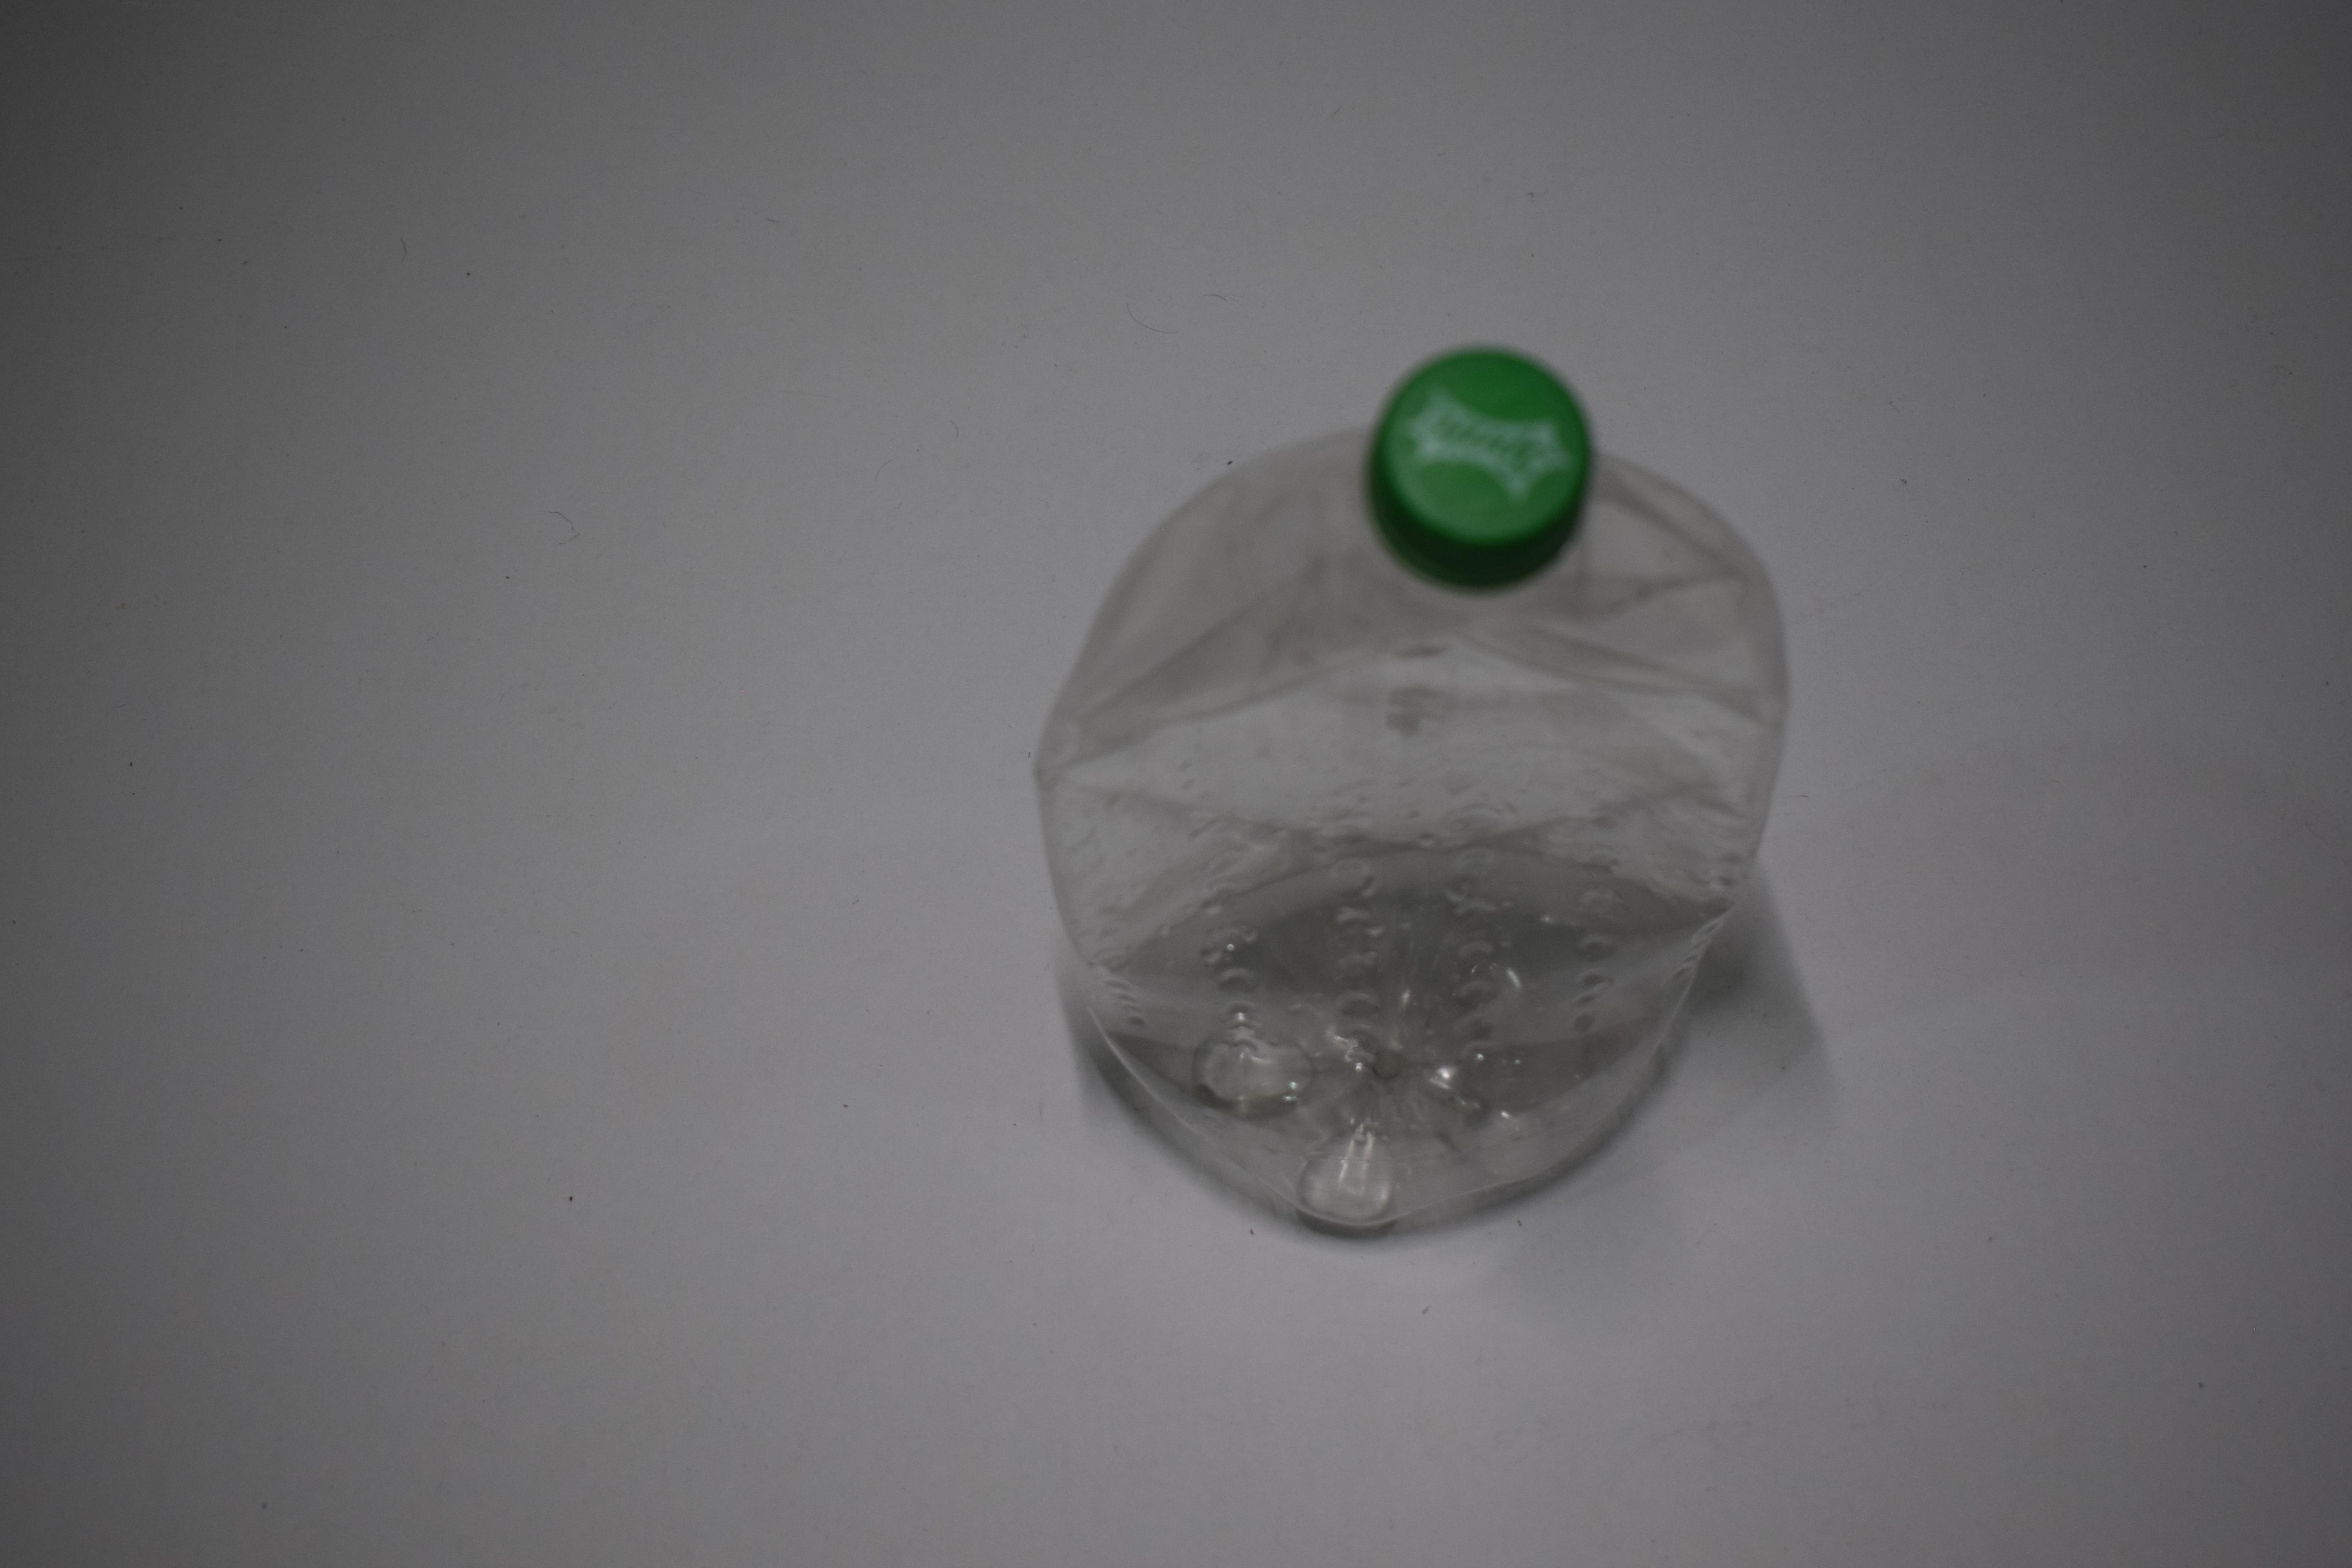bottle: (1024, 0, 1799, 63)
